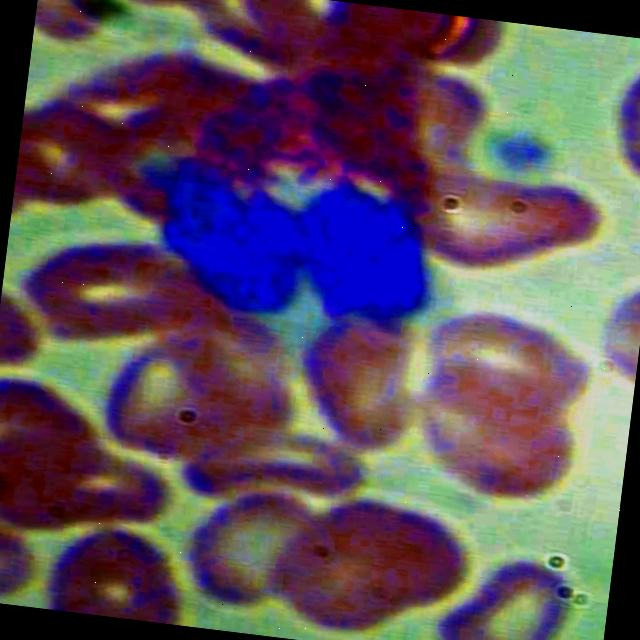Platelets: (484, 124, 558, 176)
RBC: (256, 478, 481, 640), (402, 148, 606, 298), (402, 368, 586, 516), (414, 290, 598, 438), (11, 221, 190, 355), (170, 477, 324, 621), (270, 310, 418, 458), (0, 433, 189, 542), (175, 418, 378, 516), (84, 326, 228, 462), (41, 514, 188, 625), (436, 547, 594, 640), (229, 0, 439, 66), (0, 367, 106, 490), (13, 100, 120, 209), (592, 51, 640, 192), (0, 505, 38, 605)
WBC: (140, 43, 468, 334)
